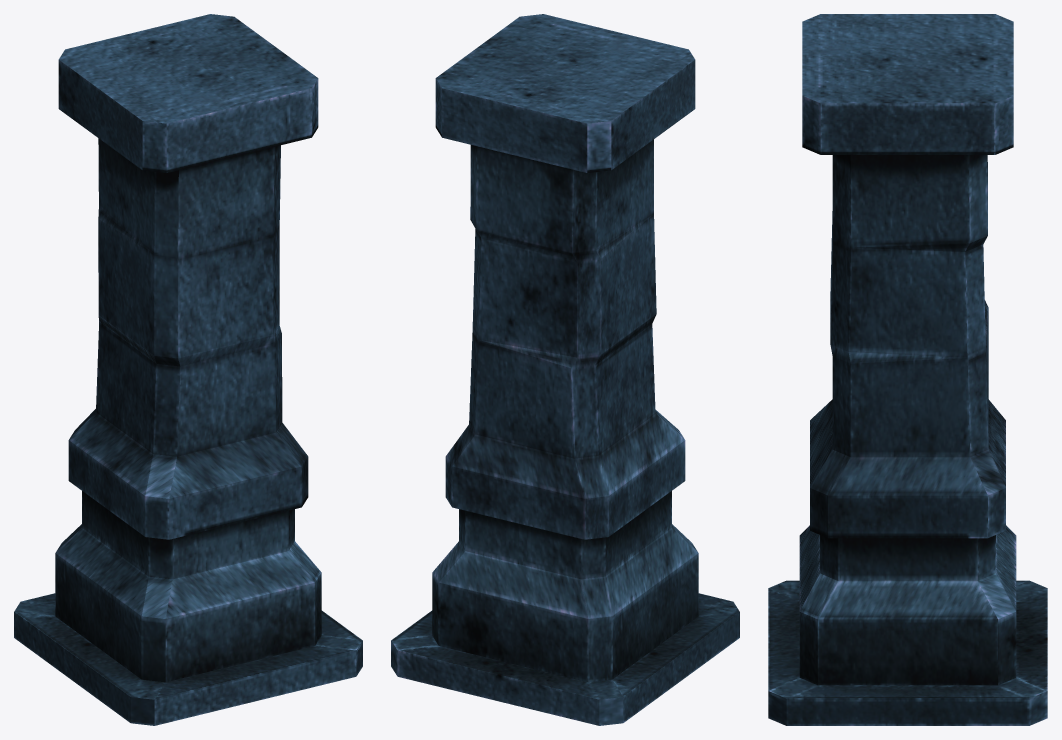
The model's file is castle_pillar-fbx.FBX.
The picture shows the model from 3 angles, left to right: view 1: azimuth 30°, elevation 25°; view 2: azimuth 150°, elevation 25°; view 3: azimuth 270°, elevation 25°; orthographic projection. The views are drawn at different scales.
Parts seen in each view (by area): view 1: Box001; view 2: Box001; view 3: Box001.
Part boxes in pixels (x1=…): Box001: x1=14, y1=14, x2=362, y2=725; Box001: x1=391, y1=14, x2=739, y2=725; Box001: x1=768, y1=14, x2=1047, y2=725.
Bounding box in the file's own units: 60 × 144 × 60.
Materials: 1 (1 with a texture image).
